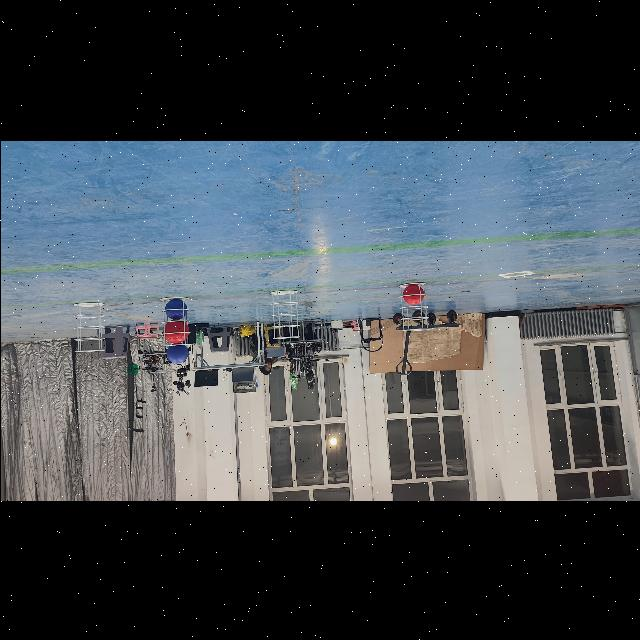B: (165, 343, 187, 363), (164, 299, 186, 319)
R: (162, 320, 188, 342), (402, 284, 424, 304)
S: (265, 286, 305, 338), (392, 279, 432, 331), (66, 300, 104, 354), (157, 295, 193, 345)
